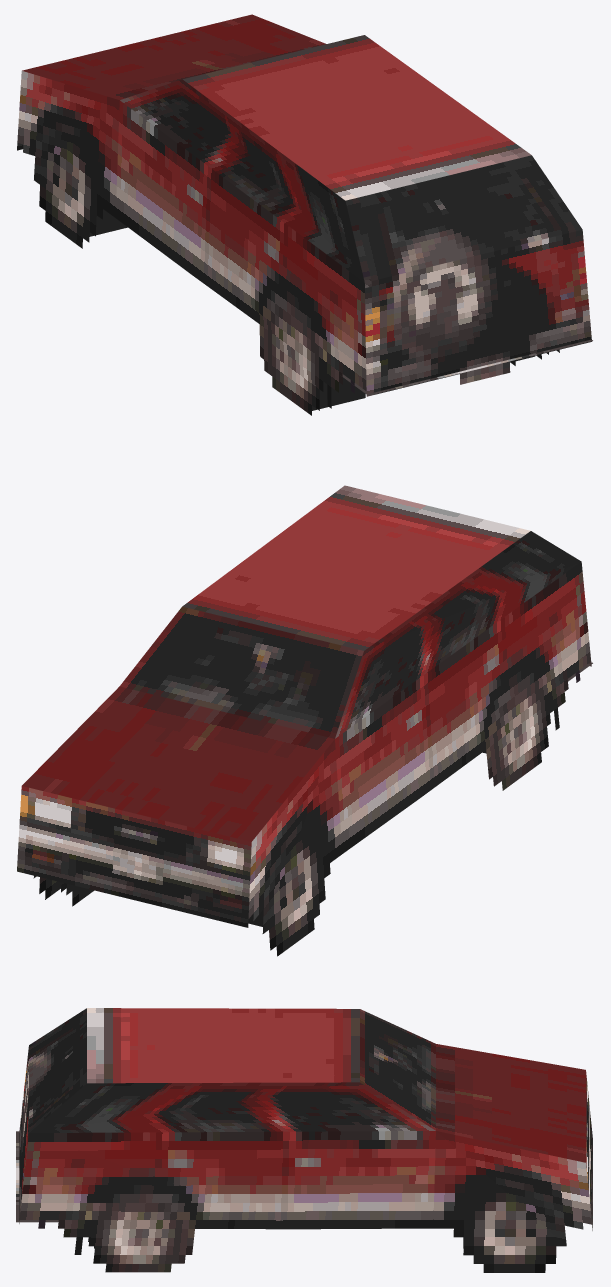
File: car-rodeo-plt3.glb
3 views of the same model, one above another, from view 1: azimuth 30°, elevation 25°; view 2: azimuth 150°, elevation 25°; view 3: azimuth 270°, elevation 25° (orthographic). The views are drawn at different scales.
Visible parts, largest first — view 1: car-rodeo-plt3; view 2: car-rodeo-plt3; view 3: car-rodeo-plt3.
Boxes of the visible parts, left/top/right/bottom form: car-rodeo-plt3: left=17, top=14, right=592, bottom=415; car-rodeo-plt3: left=17, top=485, right=592, bottom=956; car-rodeo-plt3: left=16, top=1008, right=592, bottom=1272.
Bounding box in the file's own units: 1.73 × 1.55 × 4.55.
Materials: 13 (13 with a texture image).
